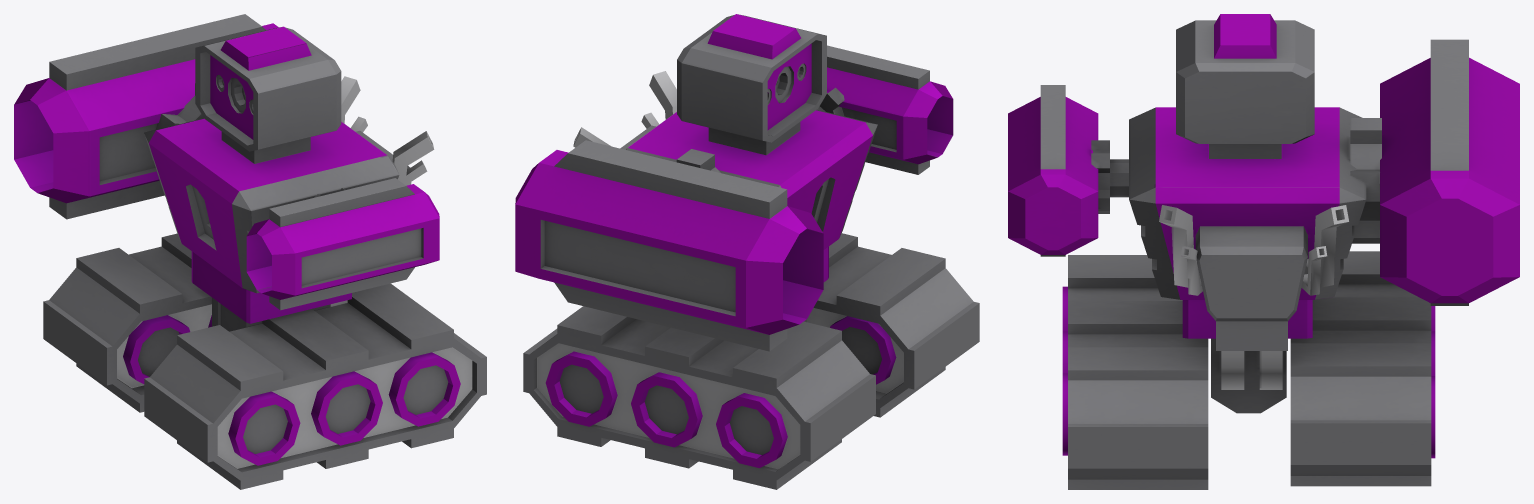
The model's file is Enemy2_Idle19.obj.
3 views of the same model, side by side, from view 1: azimuth 30°, elevation 25°; view 2: azimuth 150°, elevation 25°; view 3: azimuth 270°, elevation 25° (orthographic). The views are drawn at different scales.
Parts seen in each view (by area): view 1: Object006, Object007, Object010, Object009; view 2: Object006, Object007, Object010, Object009; view 3: Object006, Object007, Object010, Object009, Object008.
Boxes of the visible parts, x1,y1,x2,y2 form: Object006: (14, 14, 486, 489); Object007: (144, 26, 399, 331); Object010: (330, 76, 434, 306); Object009: (156, 83, 203, 129); Object006: (515, 45, 979, 489); Object007: (626, 14, 877, 322); Object010: (573, 71, 676, 149); Object009: (676, 149, 720, 172); Object006: (1008, 39, 1519, 489); Object007: (1129, 14, 1366, 413); Object010: (1159, 205, 1348, 389); Object009: (1350, 118, 1381, 243); Object008: (1091, 140, 1128, 213).
Bounding box in the file's own units: 87.45 × 108 × 125.
